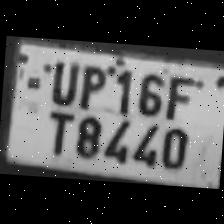0: (156, 121, 190, 172)
1: (105, 64, 134, 116)
4: (100, 112, 132, 164), (127, 117, 158, 167)
6: (132, 68, 166, 118)
8: (71, 110, 102, 160)
F: (162, 70, 196, 120)
P: (73, 60, 107, 110)
T: (38, 106, 72, 156)
U: (43, 56, 77, 105)
